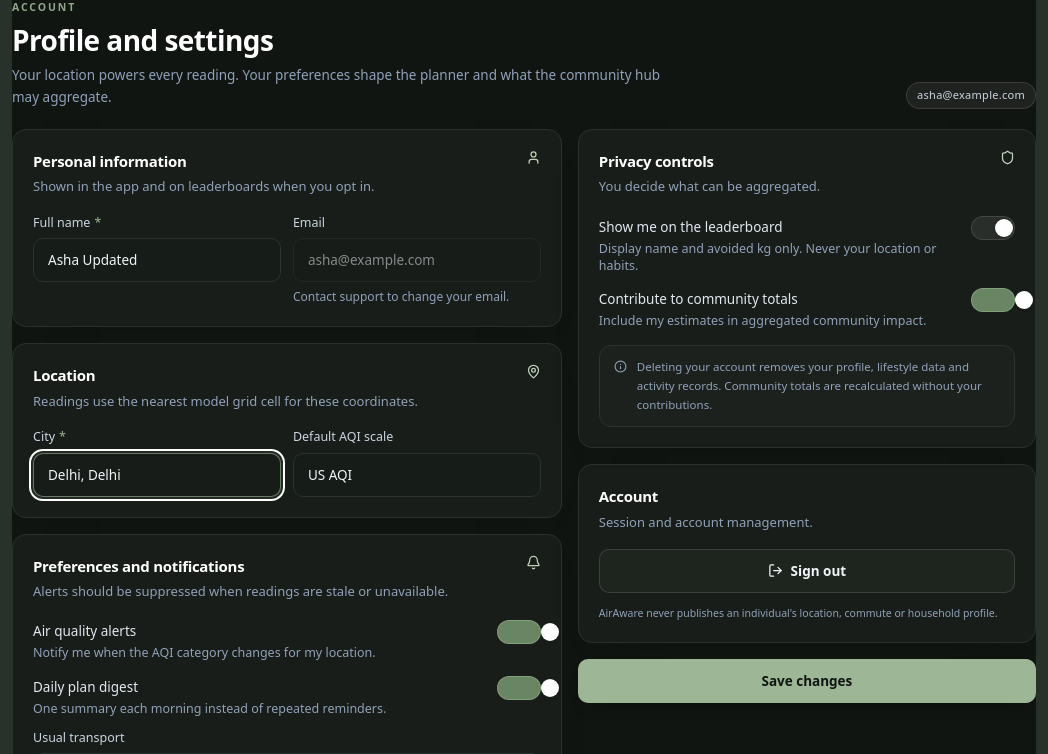
Scenario: Settings interactions › saves edited profile fields and preference toggles
Earlier steps of the test are not shown.
Later steps or results of the test are not shown.
Select "Indian National AQI (CPCB)" in the dropdown labelled "Default AQI scale": (417, 475) [293, 453, 541, 497]
(page scrolled)
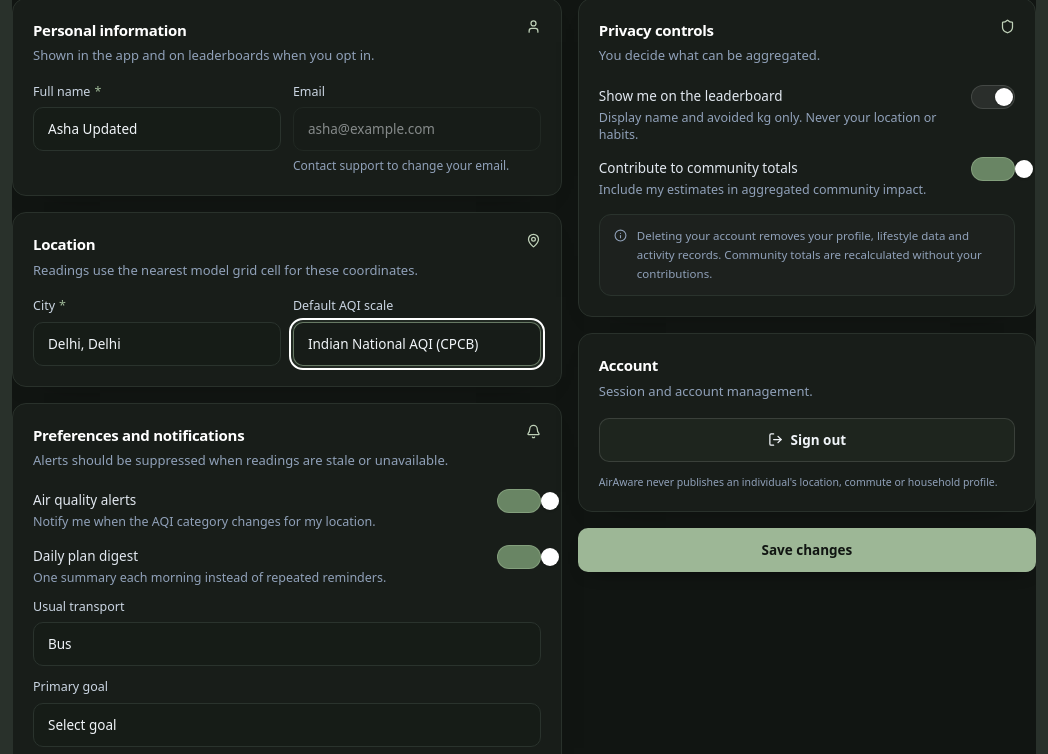
Select "Cycle" in the dropdown labelled "Usual transport": (287, 644) [33, 622, 541, 666]
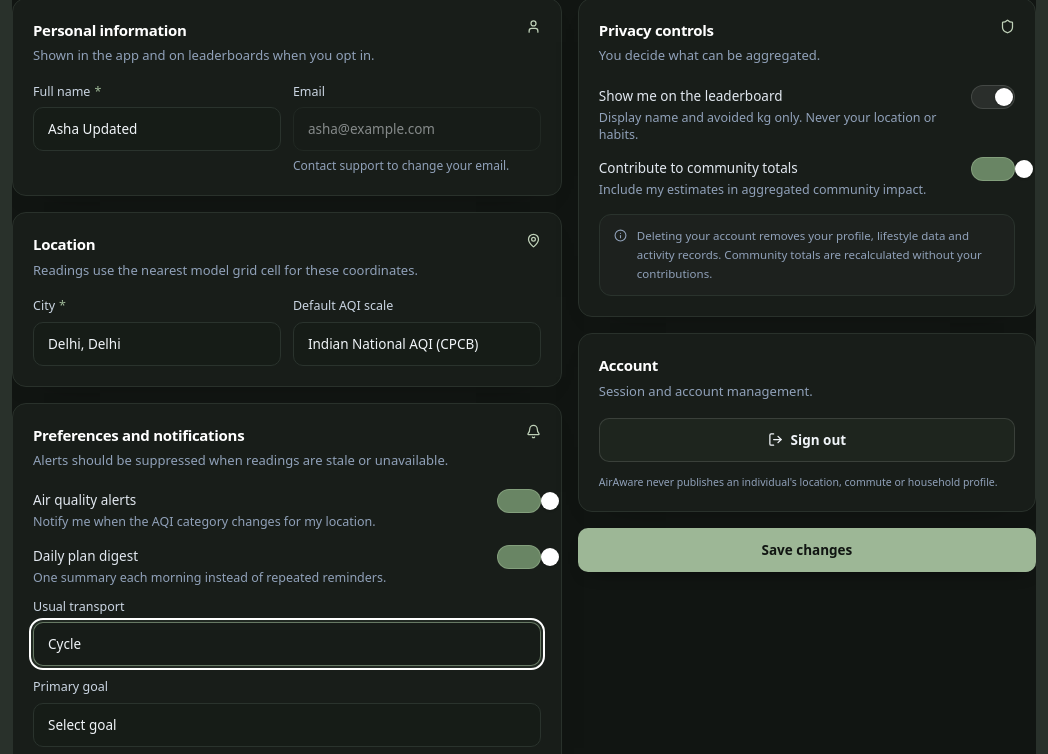
Select "Reduce pollution exposure" in the dropdown labelled "Primary goal": (287, 725) [33, 703, 541, 747]
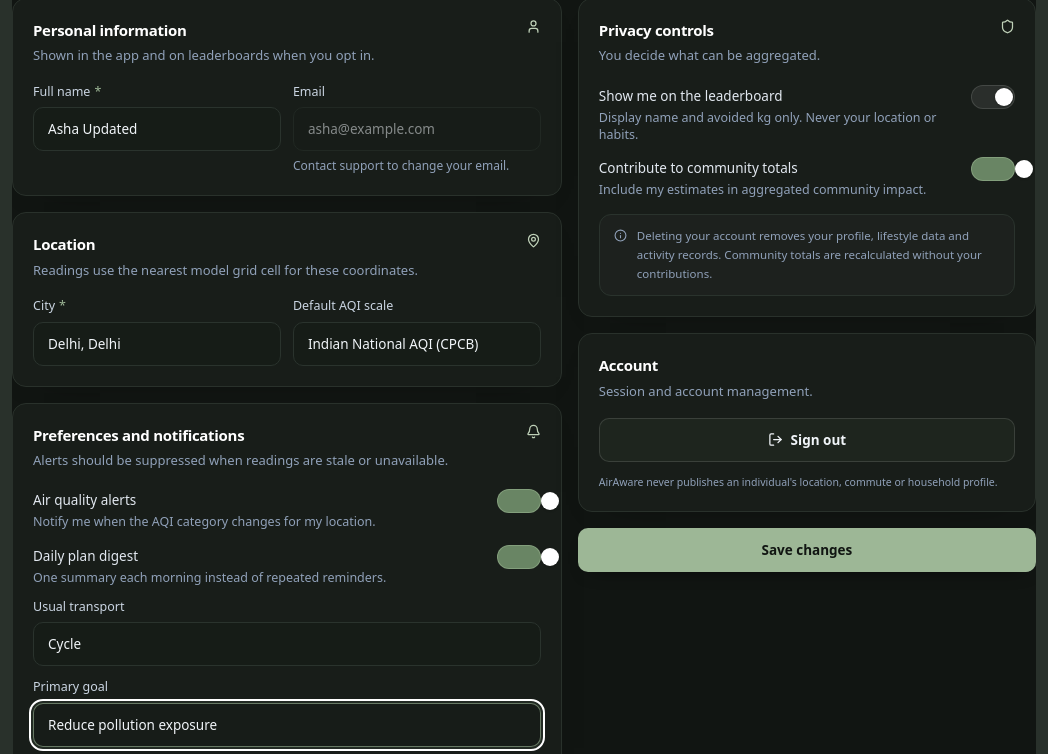
Click the switch named "Air quality alerts" in the row of "Air quality alerts": click(519, 501) [497, 489, 541, 513]
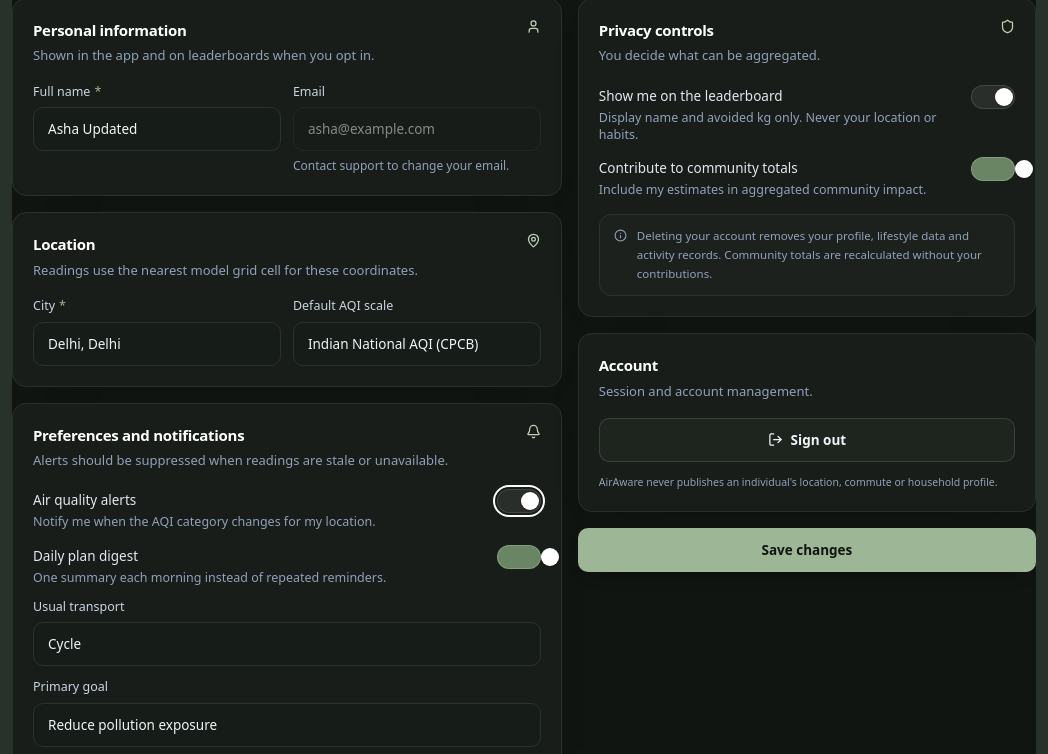
Click the switch named "Show me on the leaderboard" in the row of "Show me on the leaderboard": click(993, 97) [971, 85, 1015, 109]
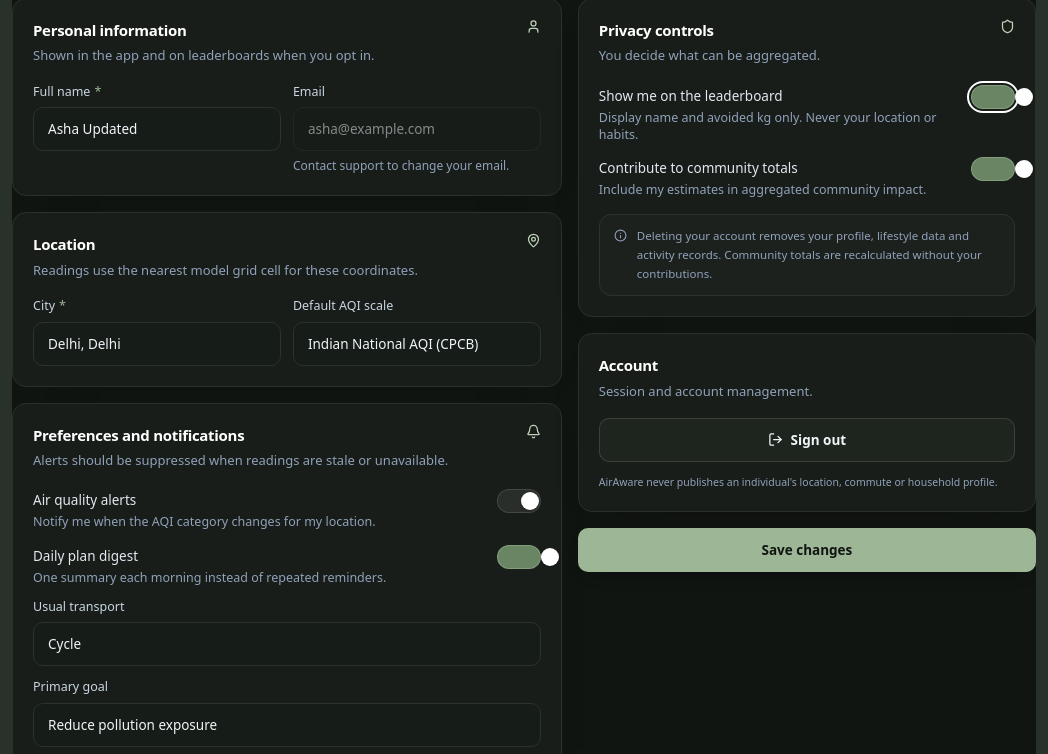
Click the switch named "Contribute to community totals" in the row of "Contribute to community totals": click(993, 169) [971, 157, 1015, 181]
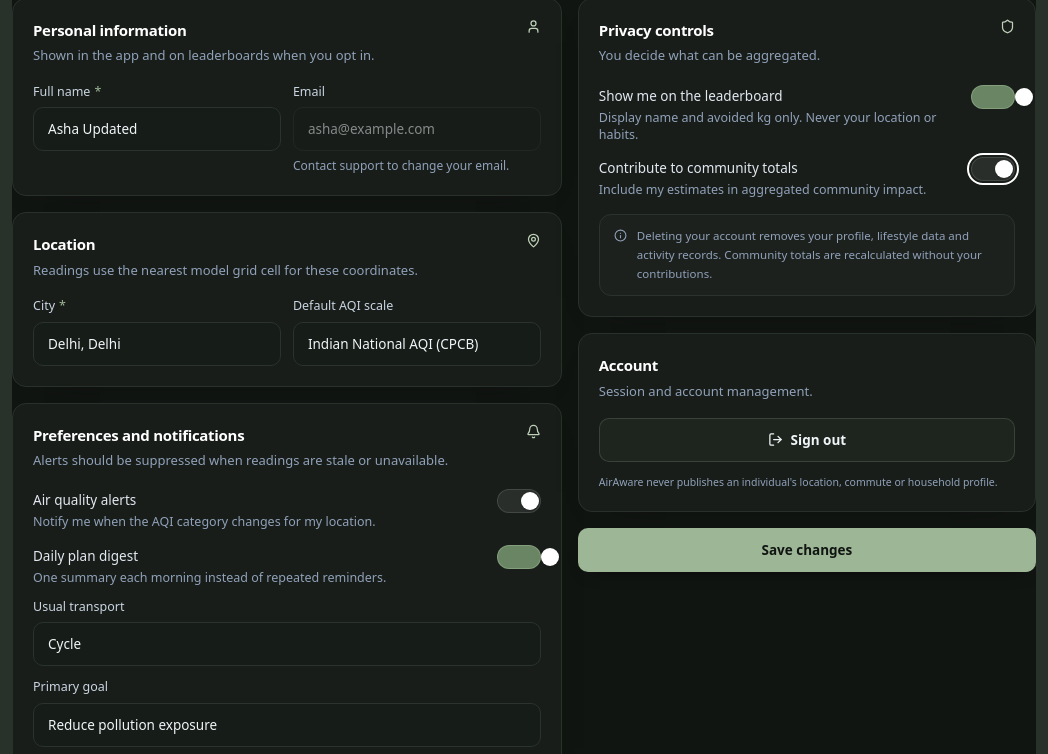
Check: the switch named "Air quality alerts" in the row of "Air quality alerts" is not checked, box [497, 489, 541, 513]
Check: the switch named "Show me on the leaderboard" in the row of "Show me on the leaderboard" is checked, box [971, 85, 1015, 109]
Check: the switch named "Contribute to community totals" in the row of "Contribute to community totals" is not checked, box [971, 157, 1015, 181]
